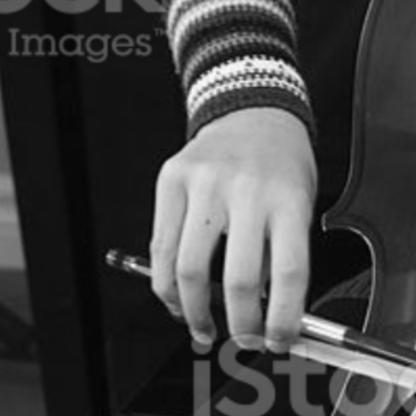bad: (134, 144, 327, 365)
